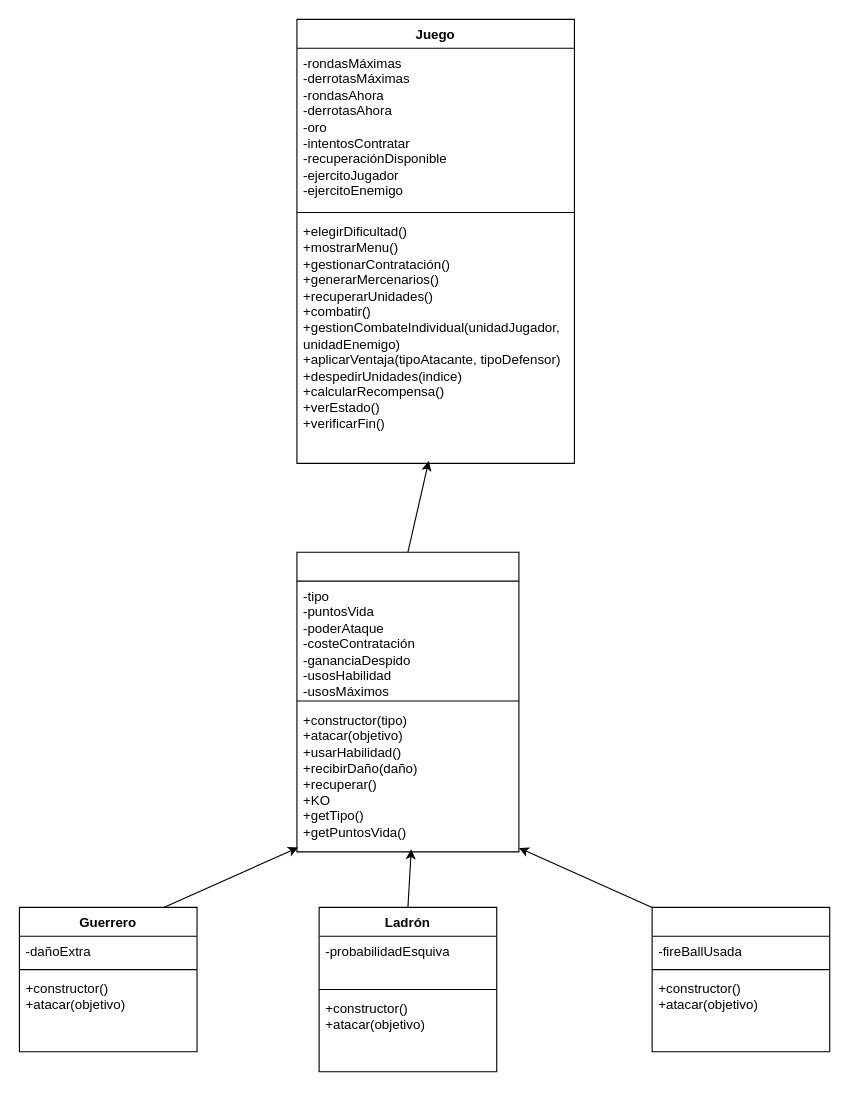
Image size: 849x1094. Some labels were removed from this diagram. Each missing label, with the box of its shape:
Mago: (651, 906, 830, 1052)
Unidad: (296, 551, 519, 852)
